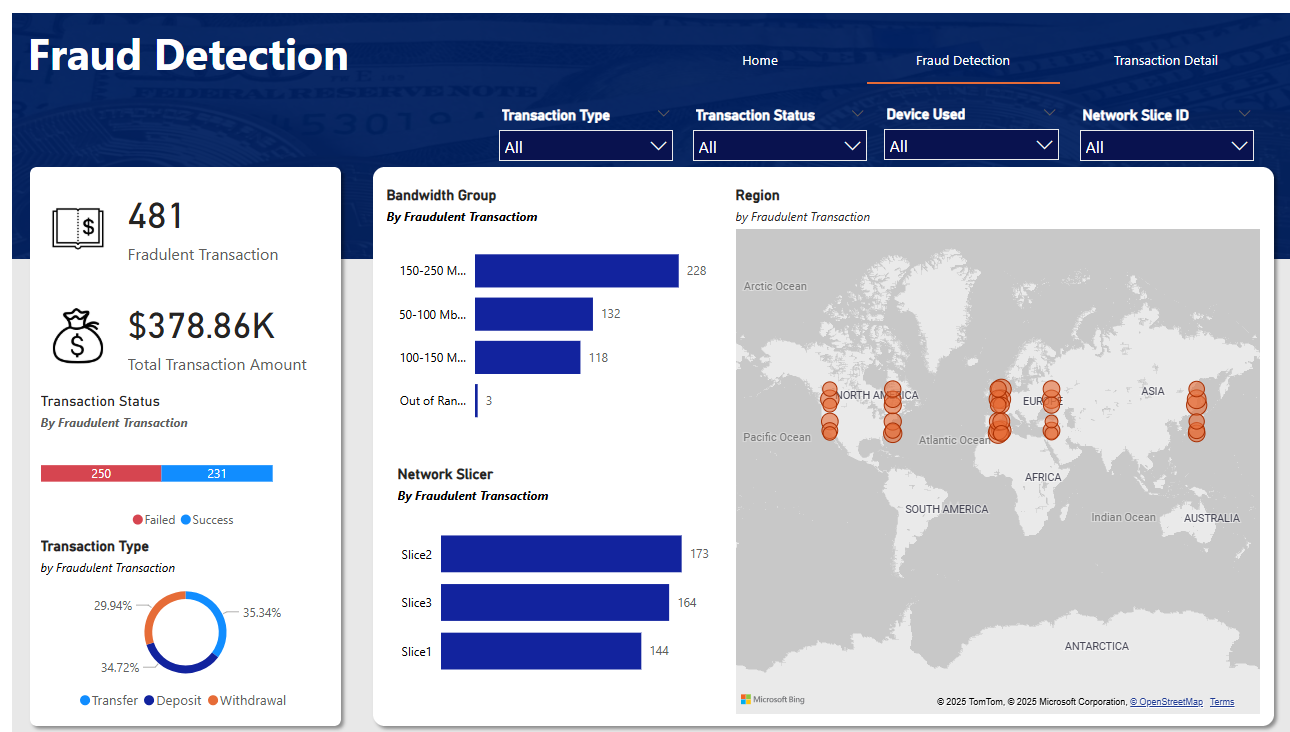

This screenshot's page, from the dashboard's own definition file:
{"tool":"powerbi","page":{"name":"Fraud Detection","canvas":[1400,900],"ordinal":1},"visuals":[{"type":"clusteredBarChart","title":"Network Slicer","fields":{"Category":["bank transaction_data.Network Slice ID"],"Y":["_measures.Total Transaction"]},"box":[441.3,541.3,322.2,230.2],"z":0},{"type":"map","title":"Region","fields":{"Y":["bank transaction_data.Latitude"],"X":["bank transaction_data.longtitude"],"Size":["_measures.Total Transaction Amount"]},"box":[779.4,261.9,533.3,531.7],"z":1000},{"type":"slicer","fields":{"Values":["bank transaction_data.Network Slice ID"]},"box":[1117.7,177.1,194.4,59.7],"z":2000},{"type":"slicer","fields":{"Values":["bank transaction_data.Device Used"]},"box":[922.2,176.2,195.2,58.7],"z":3000},{"type":"slicer","fields":{"Values":["bank transaction_data.Transaction Status"]},"box":[730.6,177.1,194.4,59.7],"z":4000},{"type":"slicer","fields":{"Values":["bank transaction_data.Transaction Type"]},"box":[537.1,177.1,194.4,59.7],"z":5000},{"type":"textbox","box":[71.4,93.7,446,82.5],"z":6000},{"type":"cardVisual","fields":{"Data":["_measures.Total Transaction"]},"box":[84.1,249.2,298.4,109.5],"z":7000},{"type":"cardVisual","fields":{"Data":["_measures.Total Transaction Amount"]},"box":[84.1,358.7,298.4,109.5],"z":8000},{"type":"barChart","title":"Transaction Status","fields":{"Y":["_measures.Total Transaction"],"Series":["bank transaction_data.Transaction Status"]},"box":[84.1,468.3,298.4,144.4],"z":9000},{"type":"donutChart","title":"Transaction Type","fields":{"Y":["_measures.Total Transaction"],"Category":["bank transaction_data.Transaction Type"]},"box":[84.1,612.7,298.4,181],"z":10000},{"type":"clusteredBarChart","title":"Bandwidth Group","fields":{"Y":["_measures.Total Transaction"],"Category":["bank transaction_data.Bandwidth Group"]},"box":[430.2,261.9,333.3,254],"z":11000},{"type":"pageNavigator","box":[712.3,108.6,600,50.6],"z":12000}]}

Visuals, with their boxes on the page's 1400x900 design canvas (x1, y1, x2, y2). These are canvas units, not pixel positions in the 1290x732 screenshot, which may show the page scaled, cropped or inside an application window:
"Network Slicer" clusteredBarChart: 441:541:764:772
"Region" map: 779:262:1313:794
slicer - bank transaction_data.Network Slice ID: 1118:177:1312:237
slicer - bank transaction_data.Device Used: 922:176:1117:235
slicer - bank transaction_data.Transaction Status: 731:177:925:237
slicer - bank transaction_data.Transaction Type: 537:177:732:237
textbox: 71:94:517:176
cardVisual - _measures.Total Transaction: 84:249:382:359
cardVisual - _measures.Total Transaction Amount: 84:359:382:468
"Transaction Status" barChart: 84:468:382:613
"Transaction Type" donutChart: 84:613:382:794
"Bandwidth Group" clusteredBarChart: 430:262:764:516
pageNavigator: 712:109:1312:159
